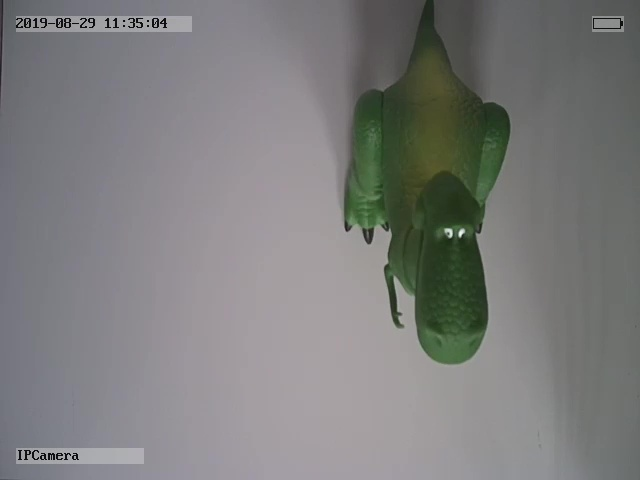rex: (342, 3, 511, 367)
